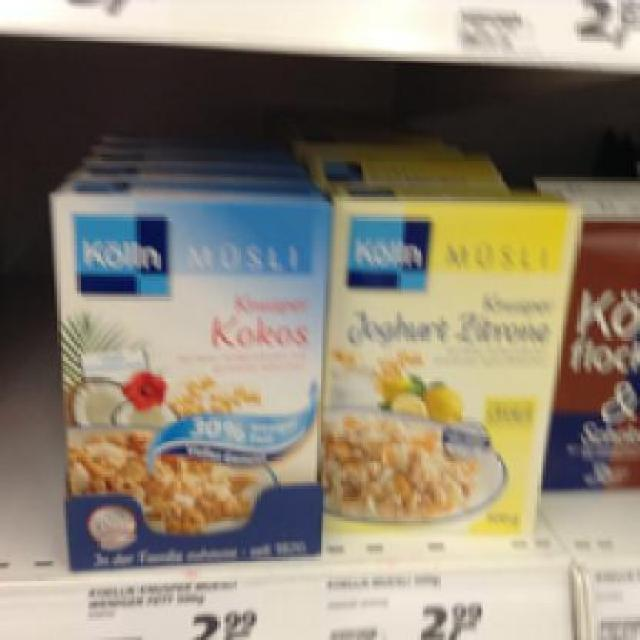Cereal: (46, 192, 326, 532), (331, 180, 580, 529)
